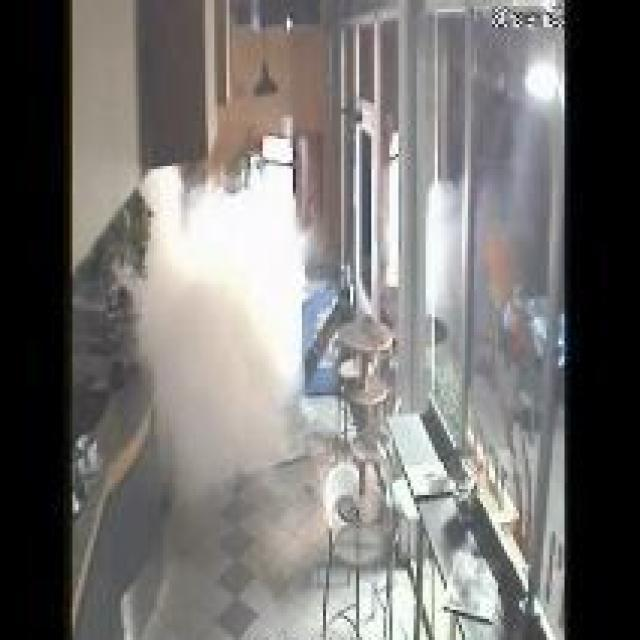fire: (130, 163, 311, 501)
